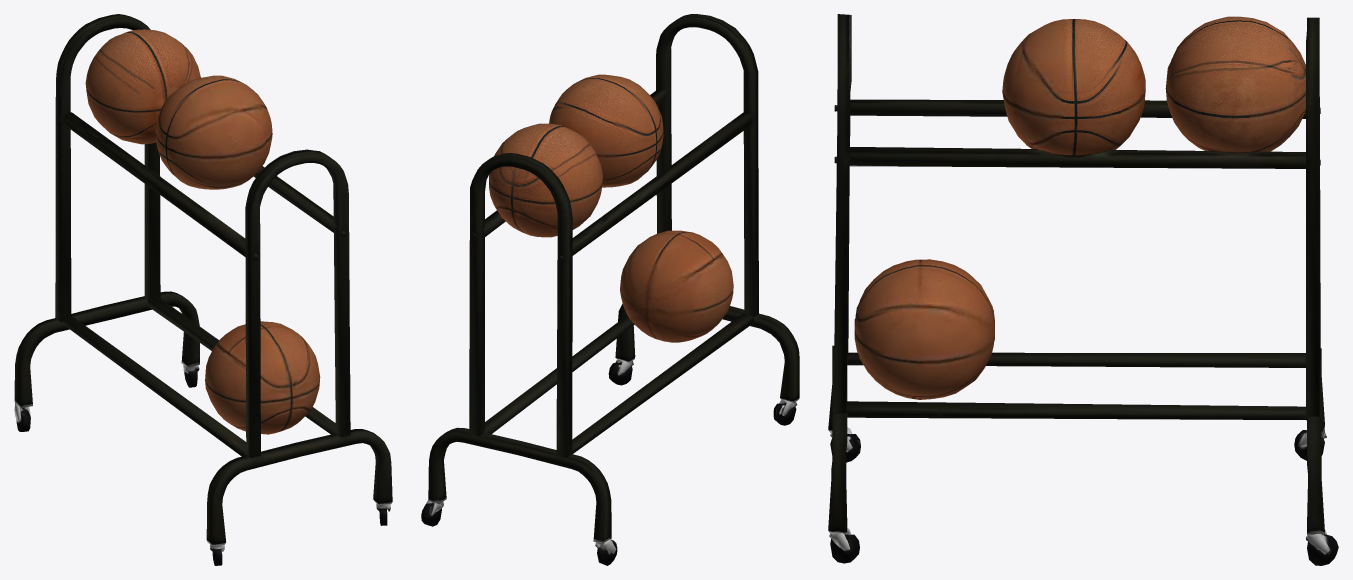
The model's file is ballrack_v01.optimized.glb.
3 views of the same model, side by side, from view 1: azimuth 30°, elevation 25°; view 2: azimuth 150°, elevation 25°; view 3: azimuth 270°, elevation 25° (orthographic). The views are drawn at different scales.
Visible parts, largest first — view 1: tripo_node_e78abbbf-dcf9-47d4-b725-f9d5ab074db5; view 2: tripo_node_e78abbbf-dcf9-47d4-b725-f9d5ab074db5; view 3: tripo_node_e78abbbf-dcf9-47d4-b725-f9d5ab074db5.
Boxes of the visible parts, left/top/right/bottom form: tripo_node_e78abbbf-dcf9-47d4-b725-f9d5ab074db5: left=14, top=14, right=392, bottom=565; tripo_node_e78abbbf-dcf9-47d4-b725-f9d5ab074db5: left=421, top=14, right=799, bottom=565; tripo_node_e78abbbf-dcf9-47d4-b725-f9d5ab074db5: left=828, top=14, right=1338, bottom=565.
Bounding box in the file's own units: 0.4941 × 0.998 × 0.9394.
Materials: 1 (1 with a texture image).
